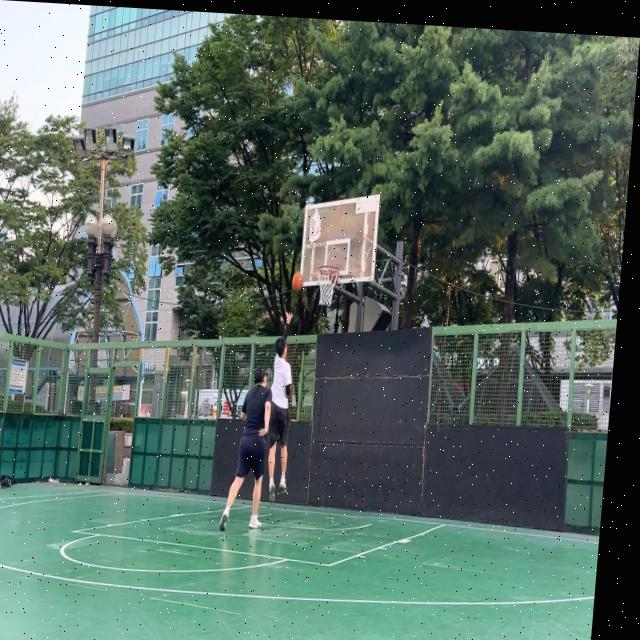basketball: (291, 271, 304, 293)
hoop: (313, 264, 339, 308)
